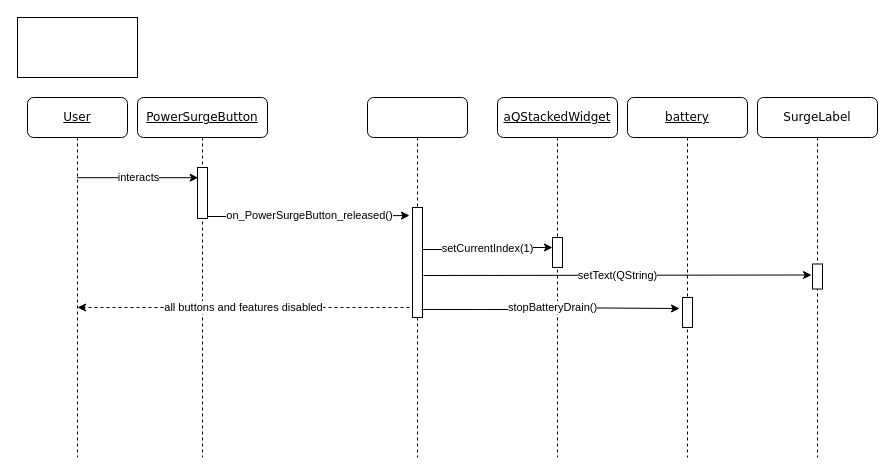
The diagram is 895 pixels wide and 475 high, and some of its shapes have lost their labels. The shapes that lost their labels are listed below. From the top down, each one's centre as x and y in pixels, then its label:
[77,47]: Current Overload Shutoff Sequence Diagram (Use Case 11)
[417,277]: MainWindow
